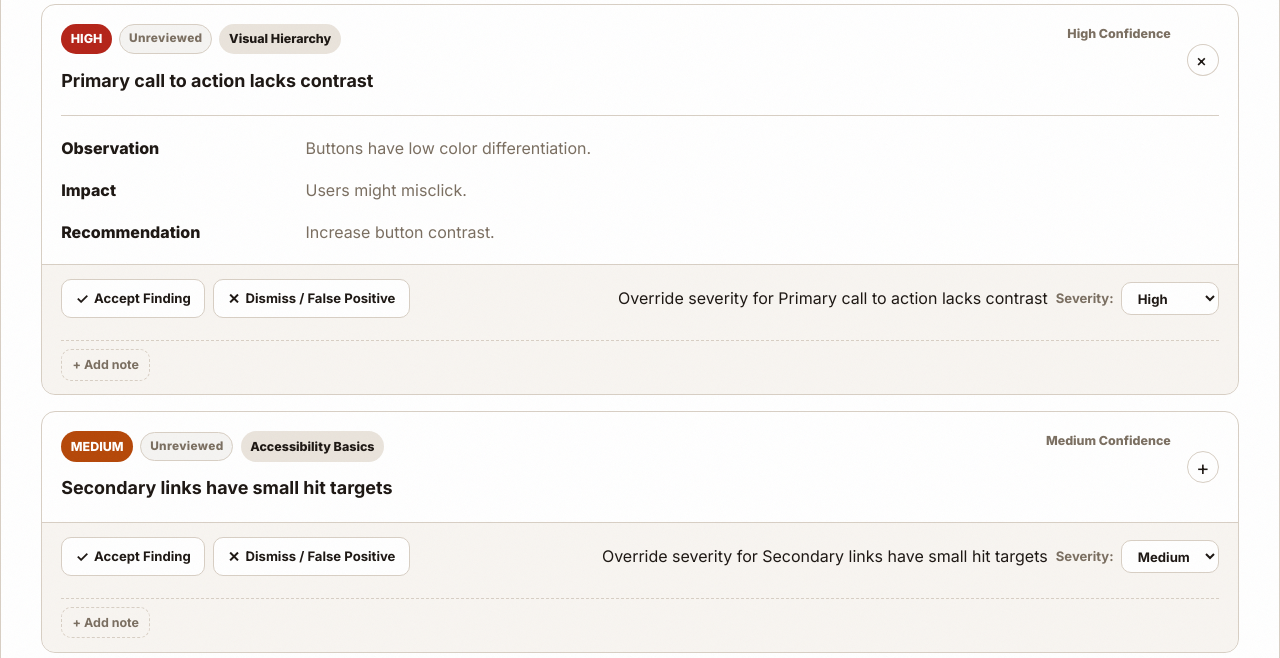
Test case: AuditResults HITL Review Experience › supports keyboard activation on triage controls
(page scrolled)
Note: Standard button responds to click or keyboard events
Press Enter in the button "✕ Dismiss / False Positive" below "Observation", box [213,279,410,318]
Click the button "✕ Dismiss / False Positive" below "Observation". click: point(312, 299)
box: [213,279,410,318]
(page scrolled)
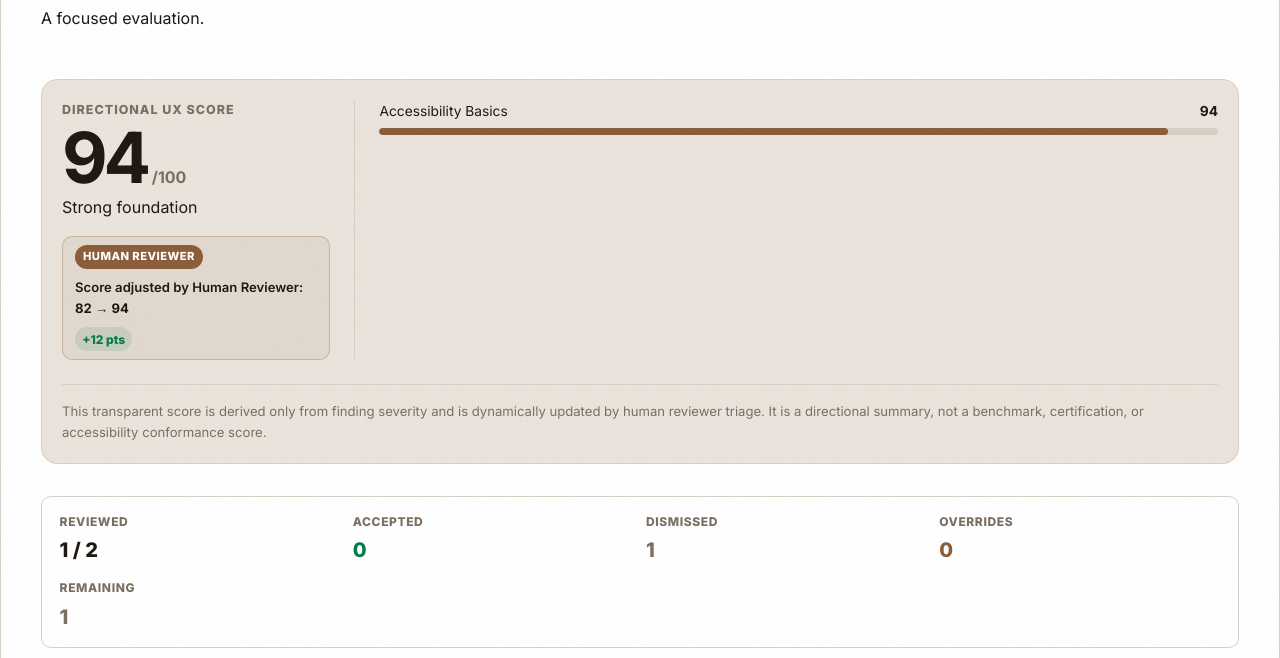
Now the text "Score adjusted by Human Reviewer: 82 → 94" is shown, box [75,277,318,319]
